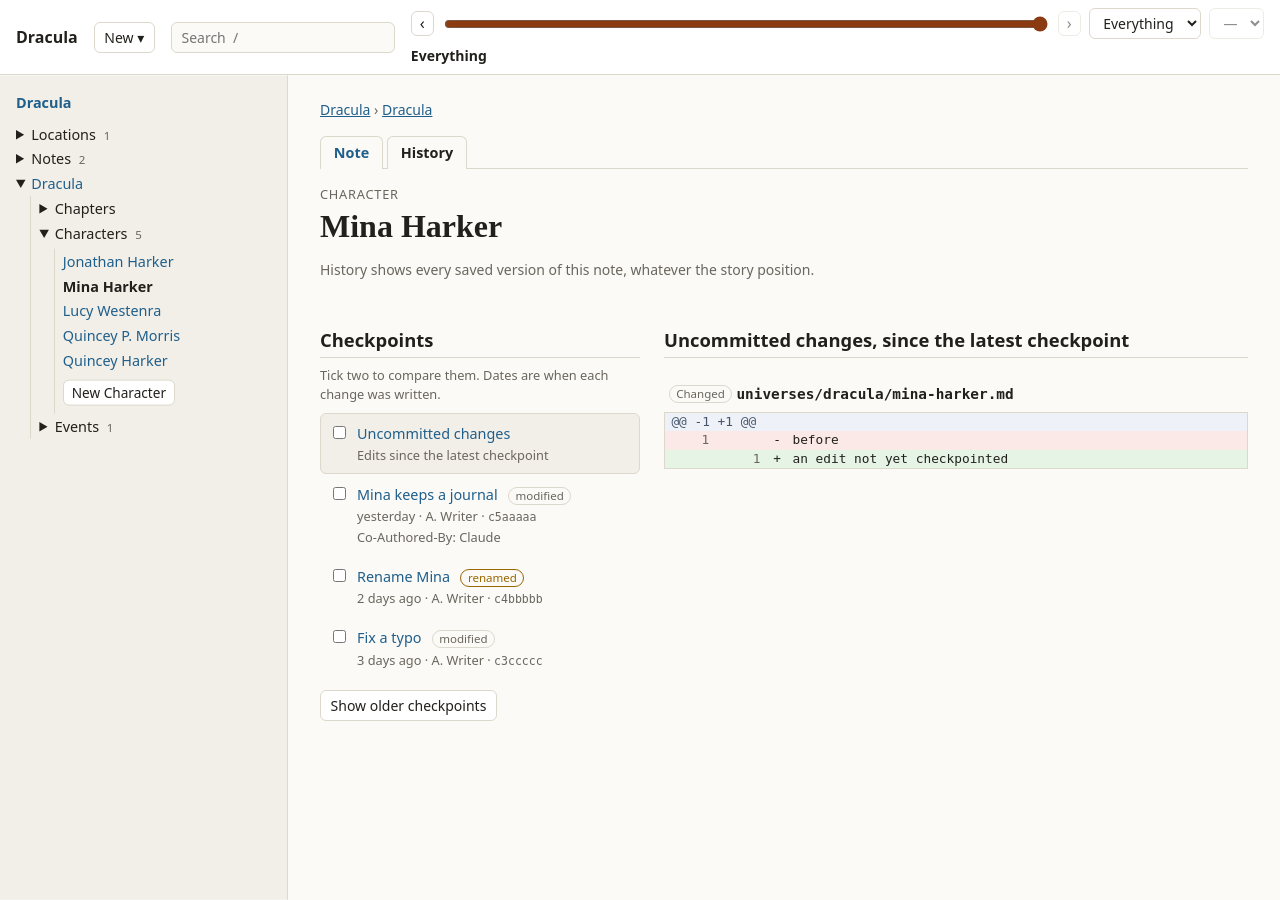
it: SC-WEB-23: I look at a note’s history in the browser › lists checkpoints with when, who, the message, and the change; pages to older ones
Expected: the button "Mina keeps a journal" is shown, [357,484,498,506]
Expected: the list item "Mina keeps a journal" shows "A. Writer", [425,508,478,526]
Step 1. Click the button "Show older checkpoints" → (408, 706), box [320,690,497,721]
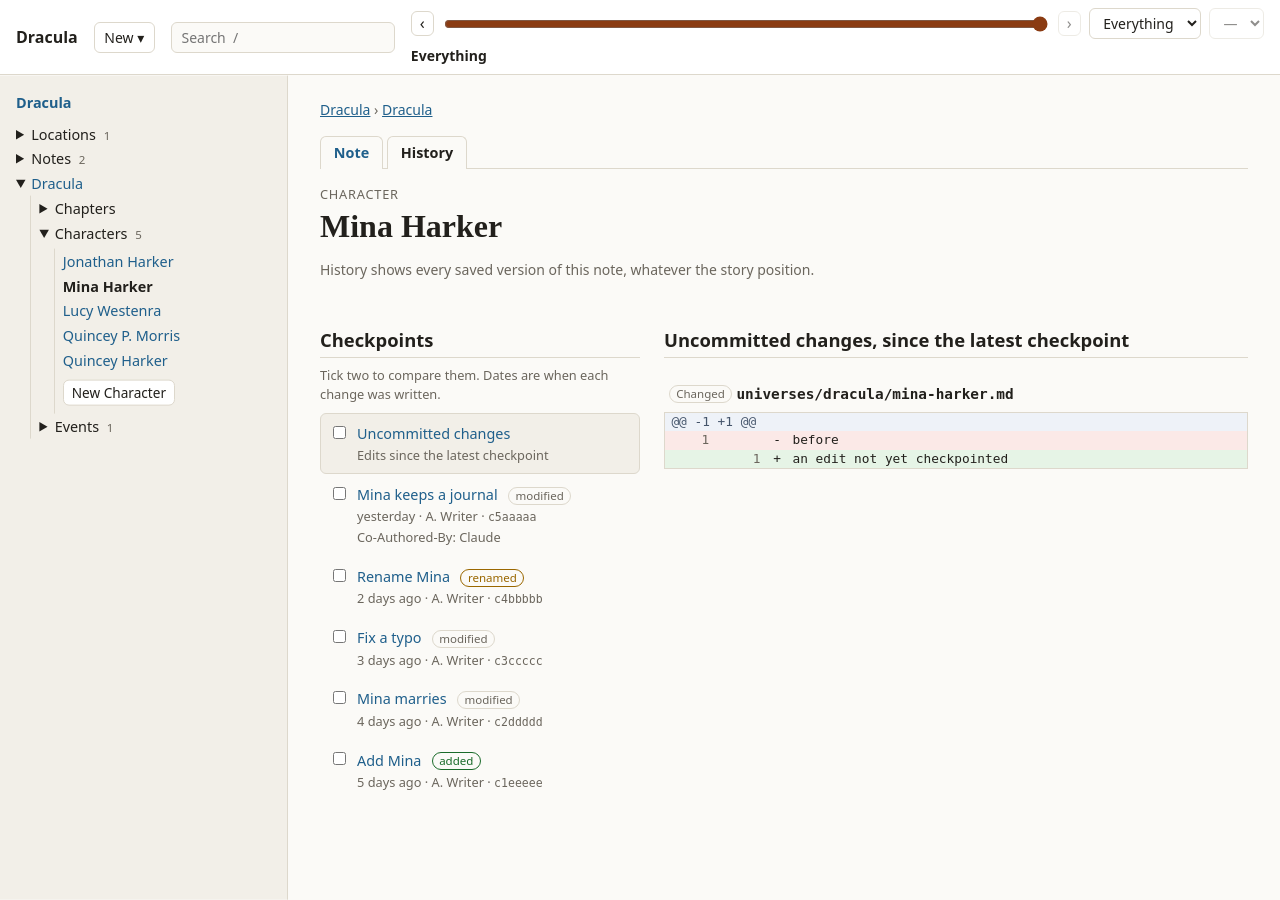
Expected: the button "Mina marries" is shown, [357,688,447,710]
Expected: the text with class "badge" reads "added", [439,753,473,768]
Expected: the button "Show older checkpoints" is gone
